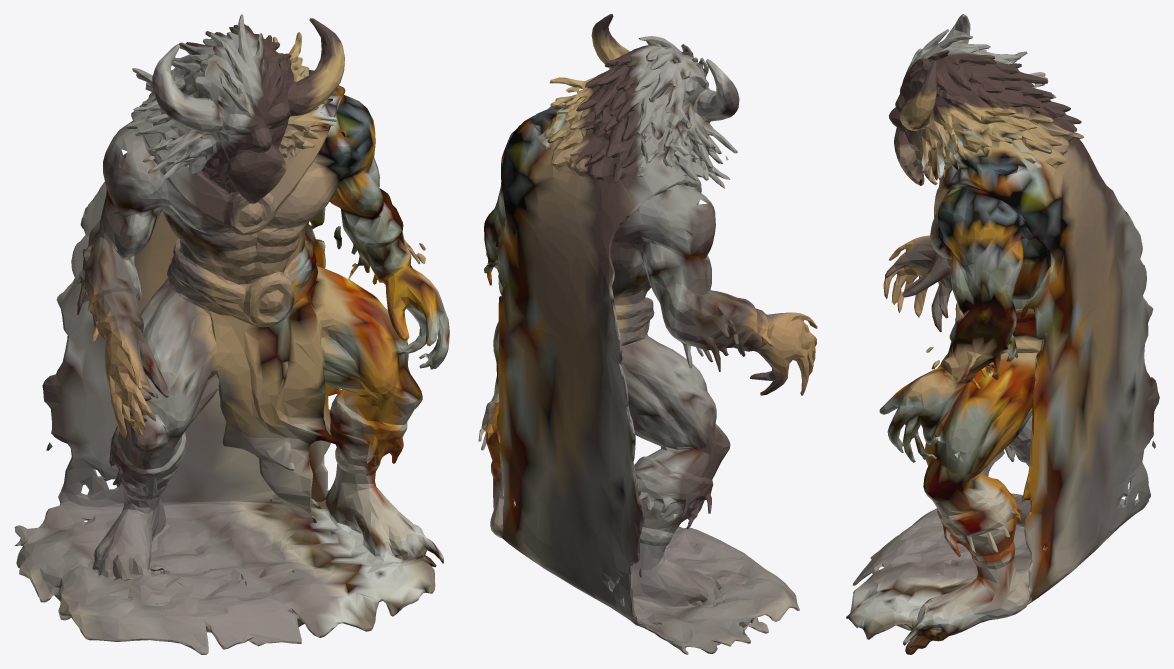
Rendered from earthElemental.glb.
3 renders of one model, left to right at view 1: azimuth 30°, elevation 25°; view 2: azimuth 150°, elevation 25°; view 3: azimuth 270°, elevation 25°, orthographic. The views are drawn at different scales.
Parts seen in each view (by area): view 1: world; view 2: world; view 3: world.
Part boxes in pixels (x1=…): world: x1=14, y1=14, x2=449, y2=654; world: x1=478, y1=14, x2=817, y2=654; world: x1=846, y1=14, x2=1159, y2=654.
Size of the model in its own units: 0.6019 by 1 by 0.5104.
